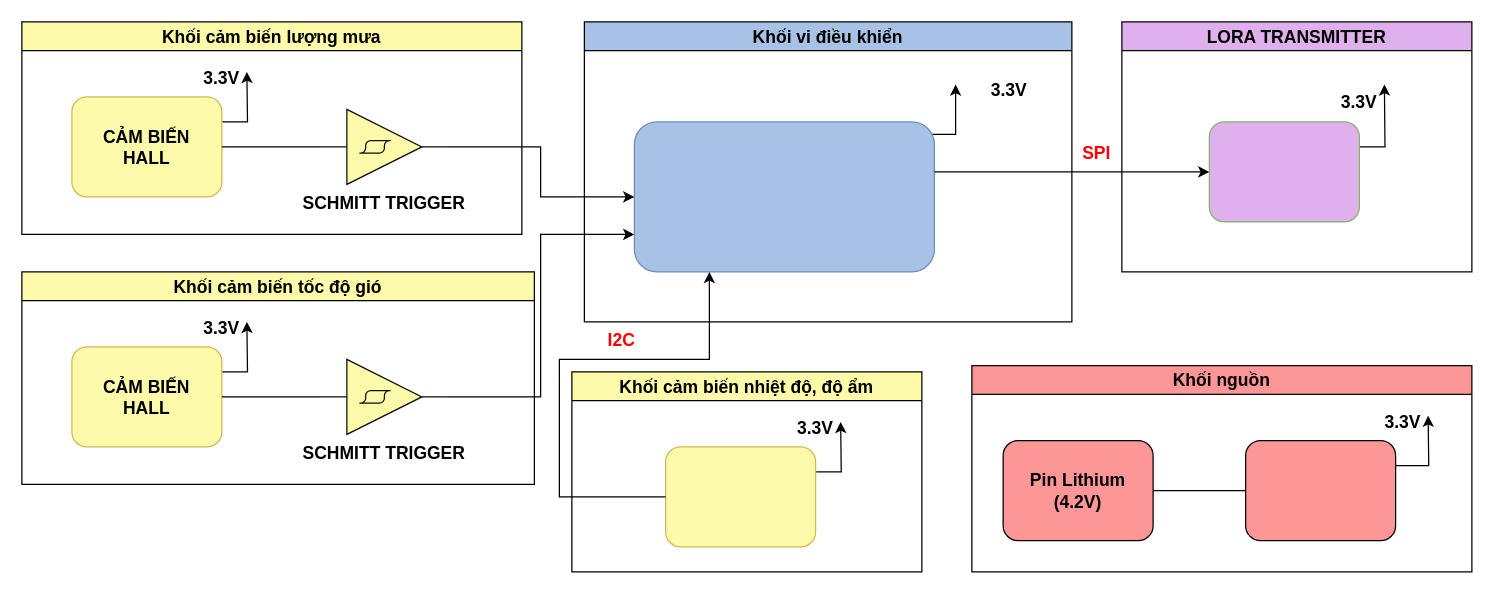
The diagram is 1494 pixels wide and 594 high, and some of its shapes have lost their labels. The centre of each missing label's shape, as x and y in pixels:
"HDC1080" belongs at (x=740, y=496).
"LORA" belongs at (x=1283, y=171).
"RT9193-33GB 3.3V" belongs at (x=1320, y=490).
"STM32F103C8T6" belongs at (x=783, y=196).
